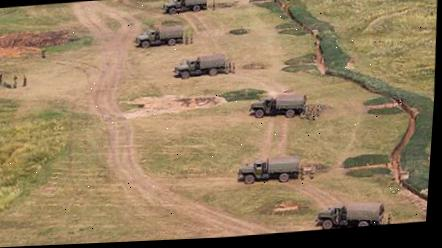armored_car: (234, 154, 309, 185), (312, 199, 387, 229), (171, 51, 237, 80), (247, 90, 309, 120), (132, 22, 195, 49), (162, 0, 209, 15)
